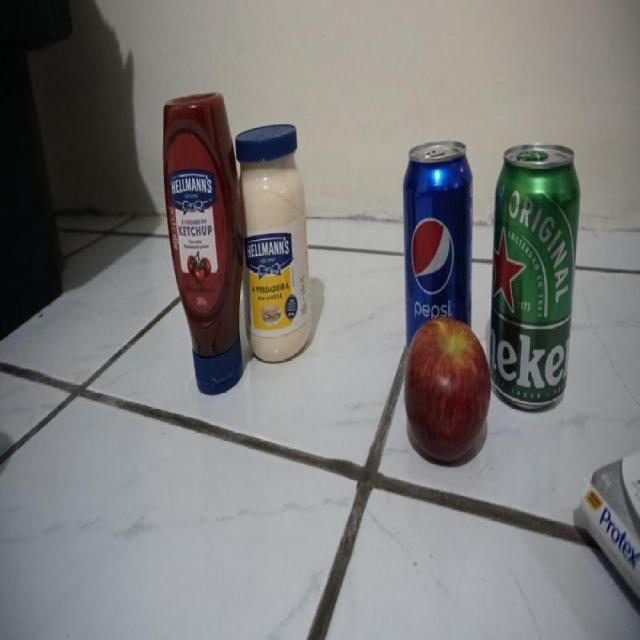Apple: (403, 316, 492, 463)
BeerCan: (489, 140, 581, 415)
Ketchup: (162, 93, 245, 394)
Mayonnaise: (235, 123, 312, 364)
Soap: (579, 449, 640, 609)
SodaCan: (402, 137, 473, 370)
